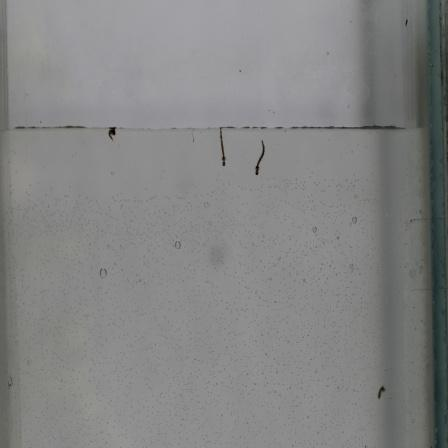Jentik-Nyamuk: (213, 126, 231, 172), (252, 135, 269, 179), (373, 380, 389, 401), (106, 125, 119, 147)
